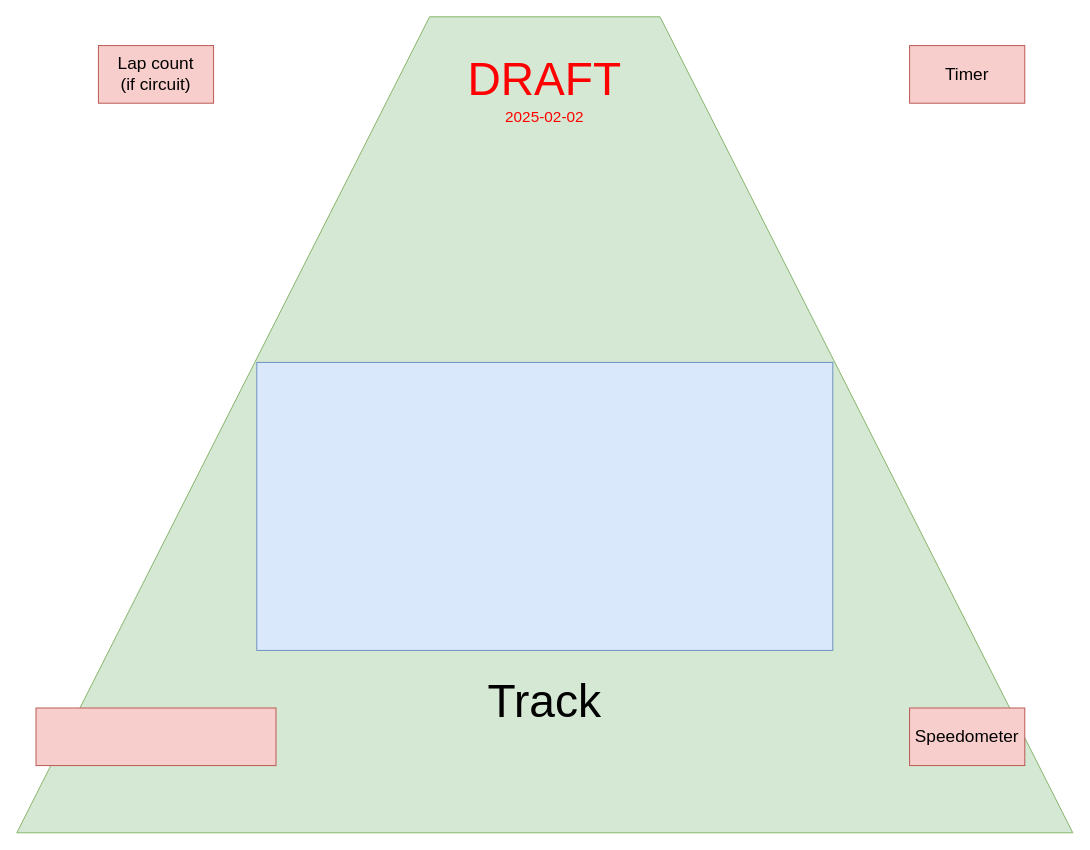
This 1090x850 diagram has some shape labels left out. The box of each missing label's shape, as (x1, y1, x2, y2) in pixels:
Boost meter: (35, 707, 276, 766)
Player Vehicle (from behind): (256, 361, 833, 650)
